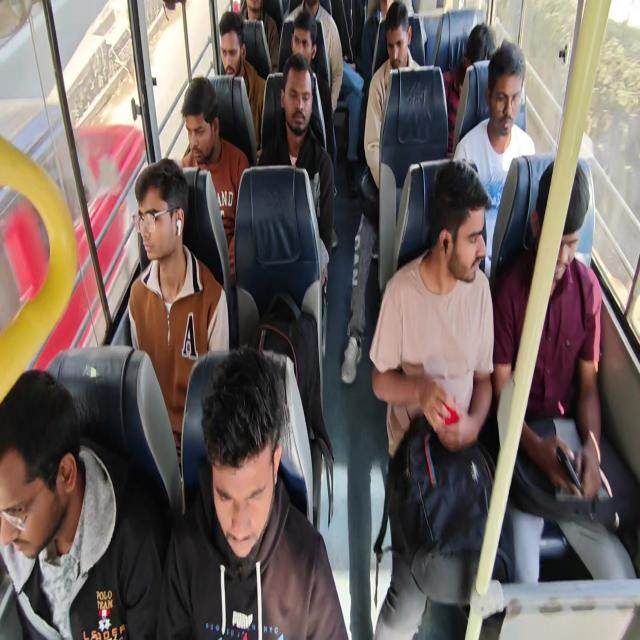person: (369, 158, 511, 638), (492, 157, 636, 580), (156, 345, 349, 639), (0, 368, 163, 638), (127, 158, 230, 474), (341, 1, 422, 384), (452, 39, 536, 279), (258, 53, 335, 300), (179, 76, 251, 286), (363, 2, 421, 190), (442, 22, 497, 154), (218, 10, 266, 154), (284, 0, 344, 114), (240, 0, 280, 73)
